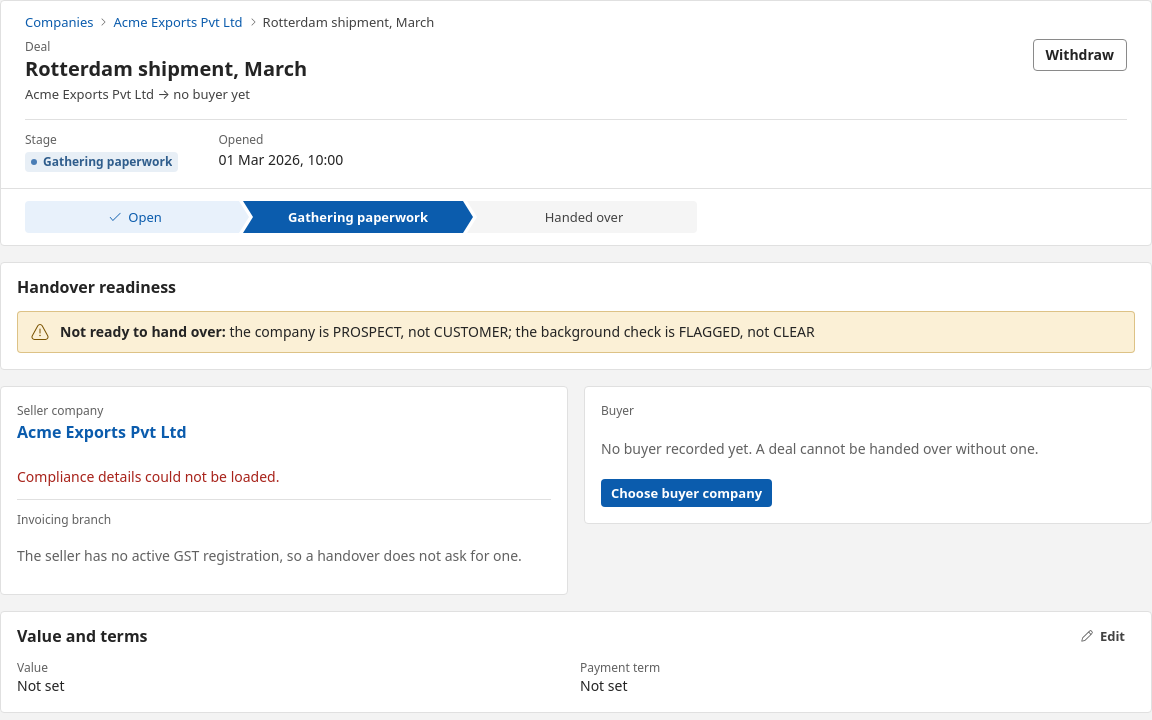
Test case: creating the buyer company › sends the create form to PUT /deals/{id}/buyer and closes the picker
The width and height of the screenshot is (1152, 720).
Click the button "Choose buyer company" at coordinates (687, 493), box [601,479,772,507]
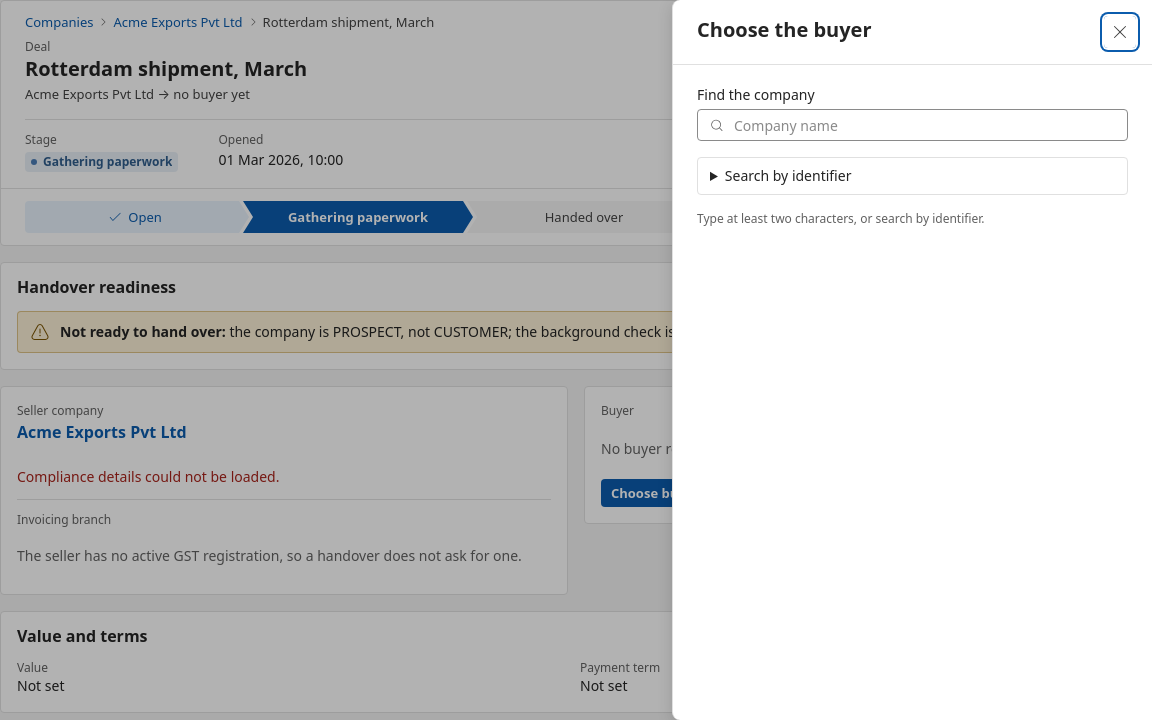
Type "Brand New Buyer" into the field with placeholder "Company name" at coordinates (912, 125), box [697,109,1128,141]
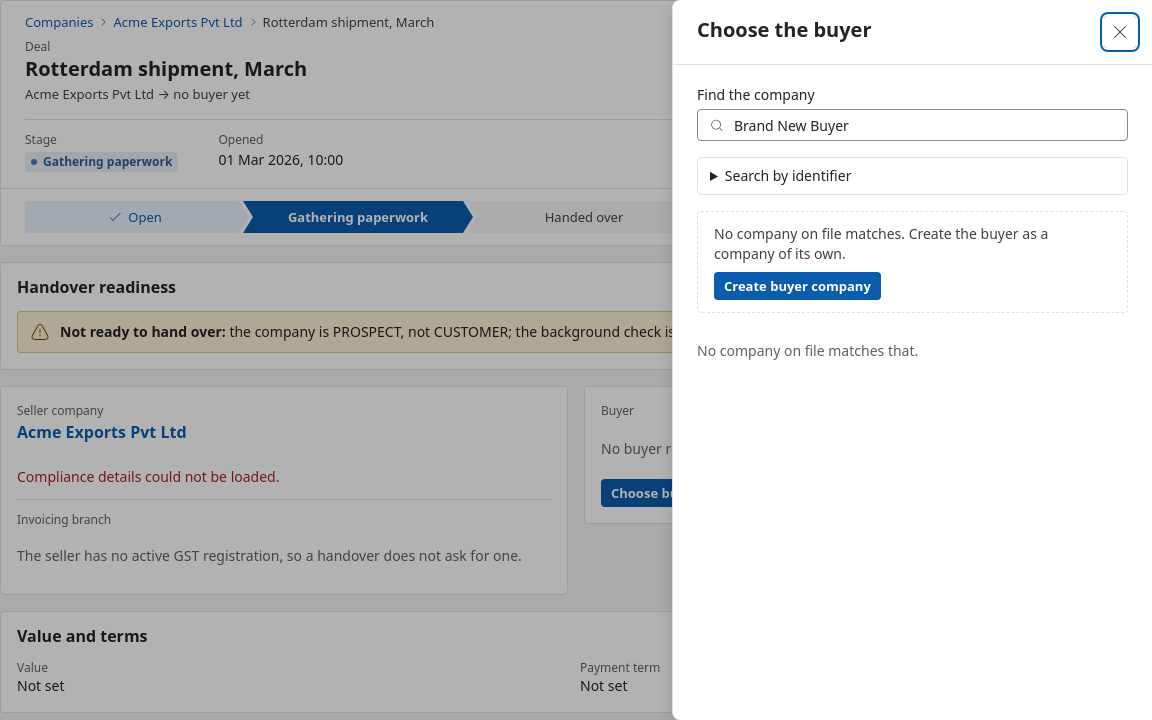
Click the button "Create buyer company" at coordinates (797, 286), box [714,272,881,300]
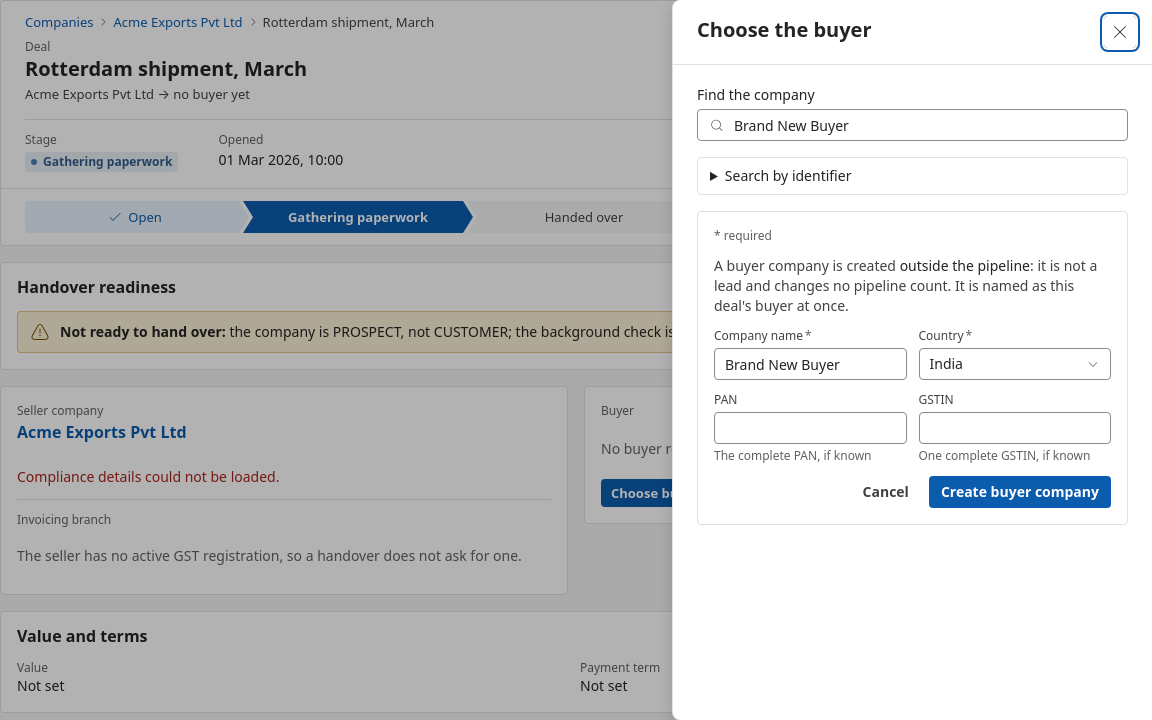
Click the button "Create buyer company" at coordinates (1020, 492), box [929,476,1111,508]
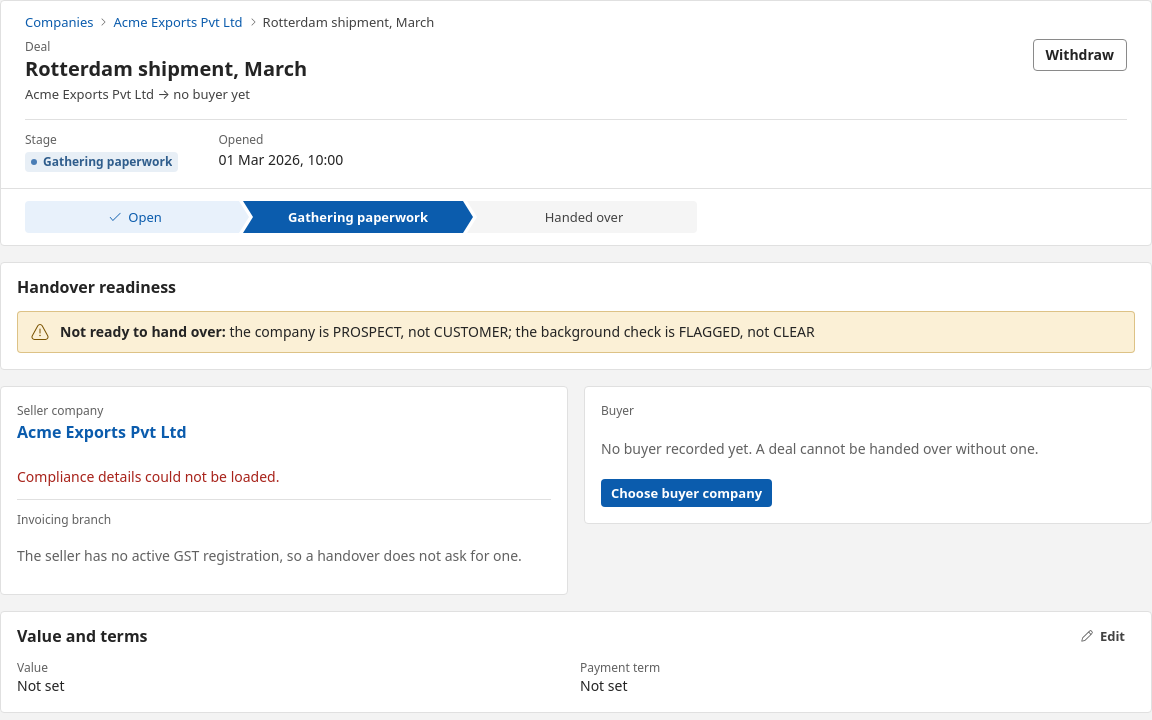
Expected: the button "Create buyer company" is gone
